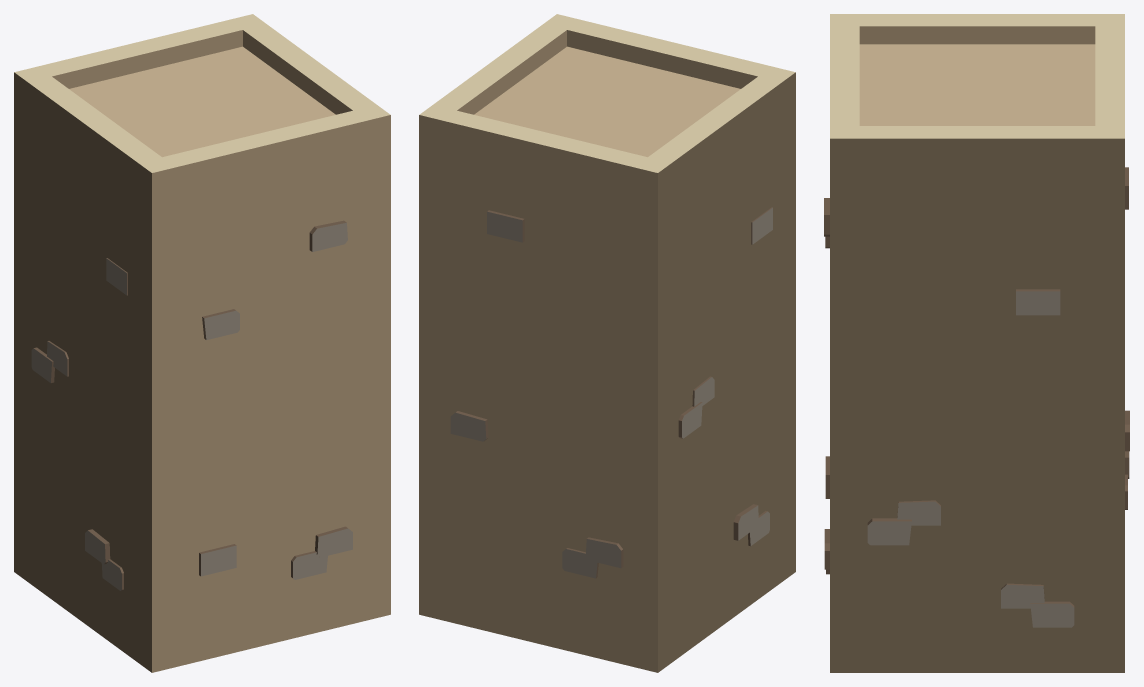
Rendered from TB_D_Bd_Body_Tall.FBX.
The picture shows the model from 3 angles, left to right: view 1: azimuth 30°, elevation 25°; view 2: azimuth 150°, elevation 25°; view 3: azimuth 270°, elevation 25°; orthographic projection. The views are drawn at different scales.
Visible parts, largest first — view 1: TB_D_Bd_Body_Tall; view 2: TB_D_Bd_Body_Tall; view 3: TB_D_Bd_Body_Tall.
Boxes of the visible parts, left/top/right/bottom form: TB_D_Bd_Body_Tall: left=14, top=14, right=390, bottom=672; TB_D_Bd_Body_Tall: left=419, top=14, right=795, bottom=672; TB_D_Bd_Body_Tall: left=824, top=14, right=1129, bottom=672.
Bounding box in the file's own units: 3.13 × 6 × 3.11.
